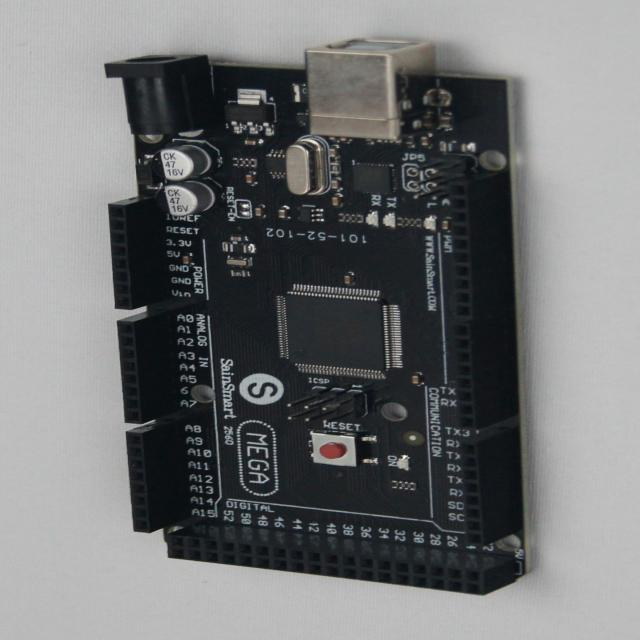Arduino Mega 2560 -Black-: (106, 41, 529, 594)
